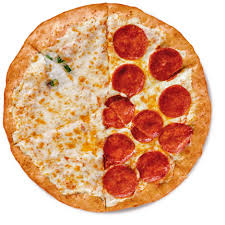pizza: (10, 4, 214, 209)
